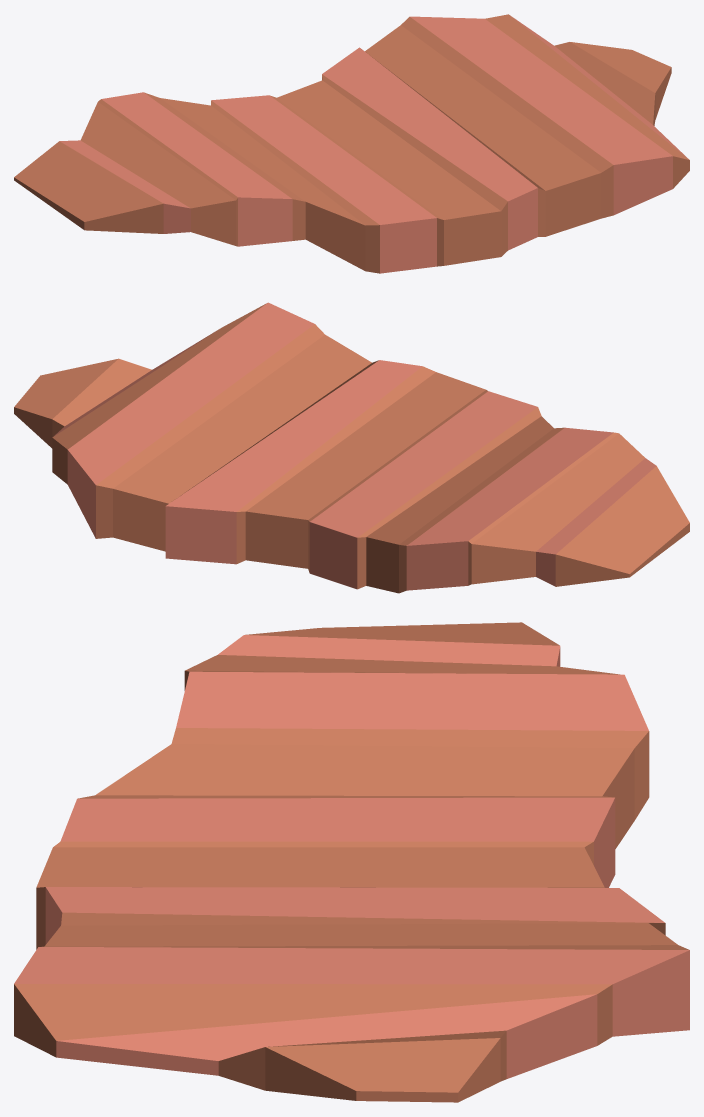
The model's file is Meat Raw.fbx.
3 views of the same model, one above another, from view 1: azimuth 30°, elevation 25°; view 2: azimuth 150°, elevation 25°; view 3: azimuth 270°, elevation 25° (orthographic). The views are drawn at different scales.
Visible parts, largest first — view 1: Cube; view 2: Cube; view 3: Cube.
Part boxes in pixels (x1,y1,x2,y2): Cube: (14,14,689,273); Cube: (14,302,689,593); Cube: (14,622,689,1102).
Bounding box in the file's own units: 85.55 × 10.57 × 52.04.
